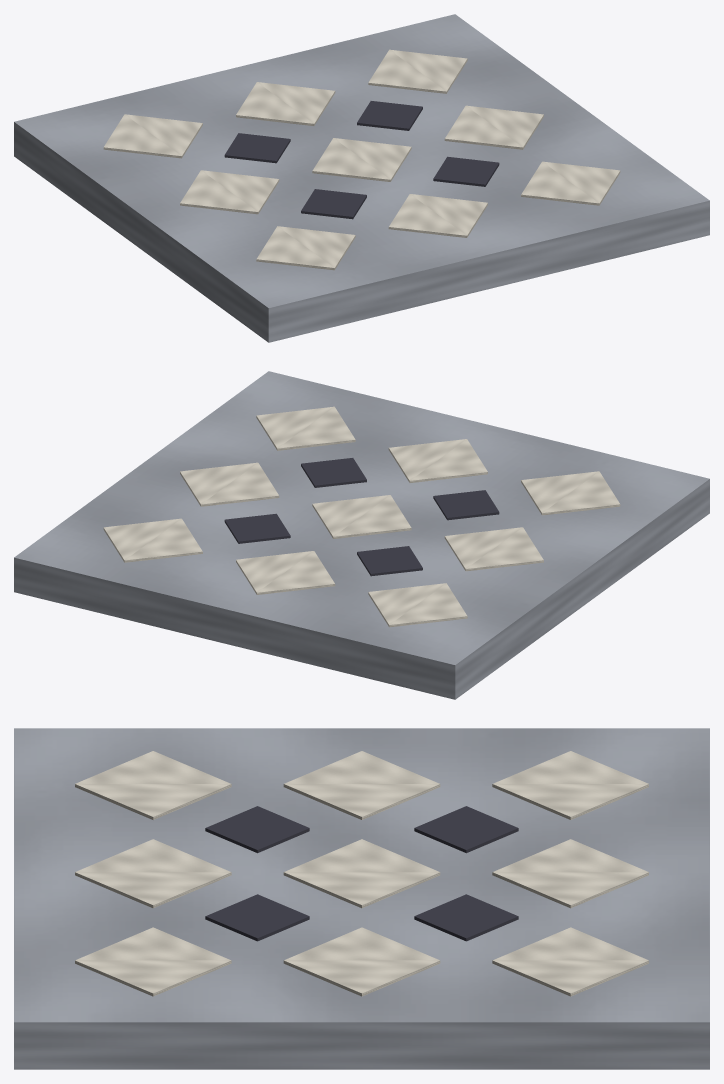
The picture shows the model from 3 angles, top to bottom: view 1: azimuth 30°, elevation 25°; view 2: azimuth 150°, elevation 25°; view 3: azimuth 270°, elevation 25°; orthographic projection. The views are drawn at different scales.
Parts seen in each view (by area): view 1: nave-floor-tile; view 2: nave-floor-tile; view 3: nave-floor-tile.
Part boxes in pixels (bbox=[...]): nave-floor-tile: bbox=[14, 14, 709, 342]; nave-floor-tile: bbox=[14, 371, 709, 699]; nave-floor-tile: bbox=[14, 728, 709, 1069].
Bounding box in the file's own units: 4 × 0.32 × 4.
3 materials, 2 textured.
